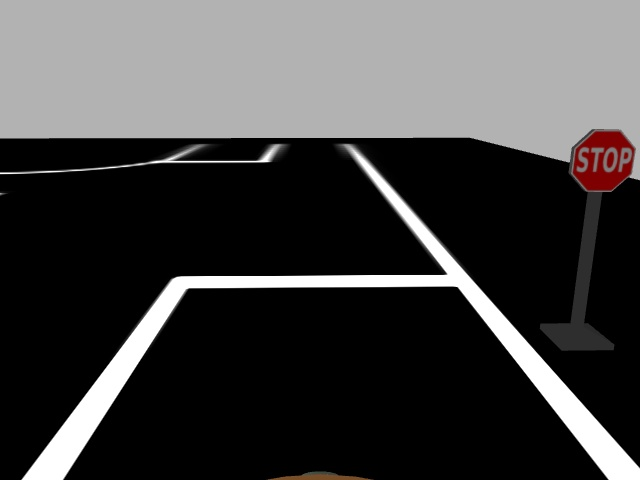stop: (565, 126, 637, 193)
